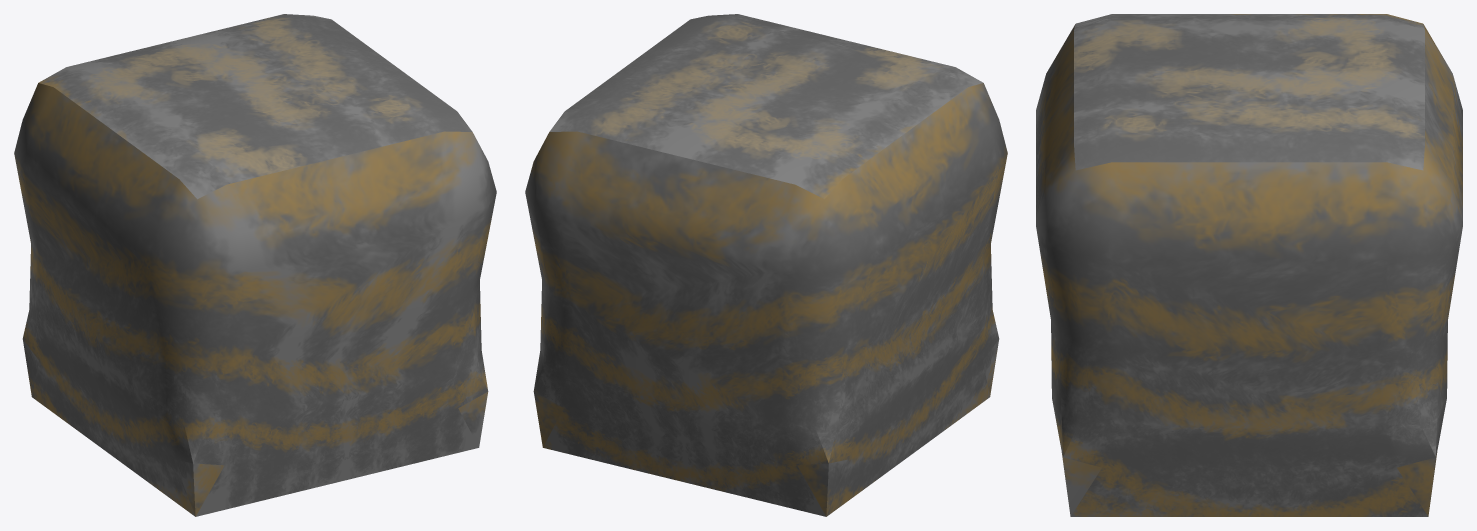
The model's file is blockStone.obj.
The picture shows the model from 3 angles, left to right: view 1: azimuth 30°, elevation 25°; view 2: azimuth 150°, elevation 25°; view 3: azimuth 270°, elevation 25°; orthographic projection. The views are drawn at different scales.
Visible parts, largest first — view 1: blockCobblestone; view 2: blockCobblestone; view 3: blockCobblestone.
Boxes of the visible parts, box(x1,y1,x2,y2) form: blockCobblestone: box(14, 14, 496, 516); blockCobblestone: box(525, 14, 1007, 516); blockCobblestone: box(1036, 14, 1462, 516).
Size of the model in its own units: 1.08 by 1.01 by 1.08.
1 material, 1 textured.
